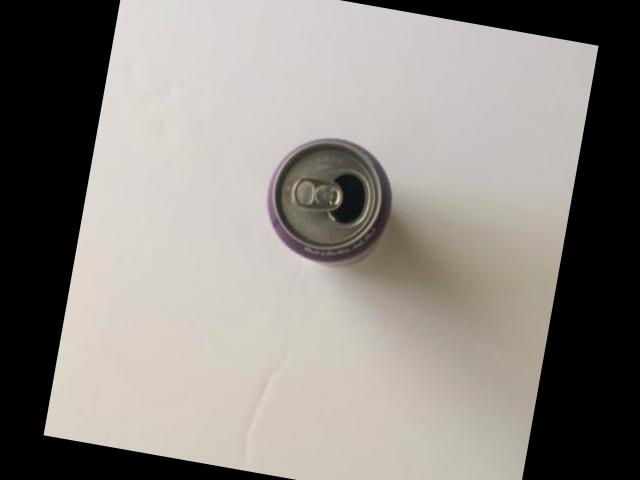metal: (269, 137, 392, 263)
